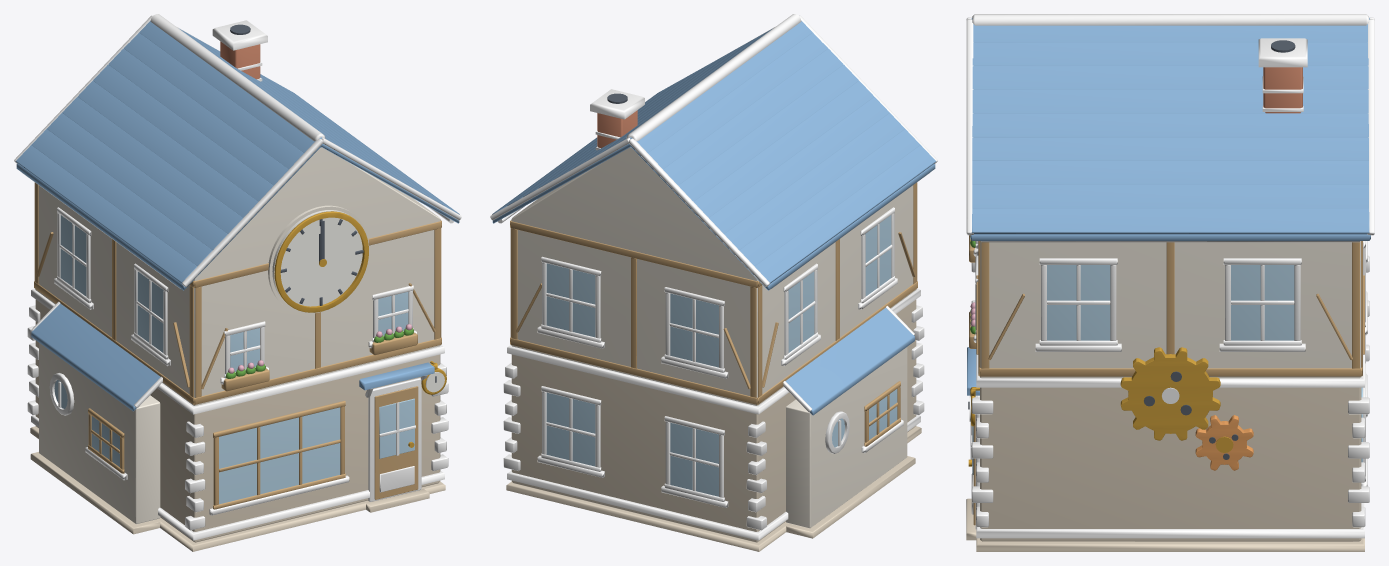
Rendered from works_clock.glb.
The picture shows the model from 3 angles, left to right: view 1: azimuth 30°, elevation 25°; view 2: azimuth 150°, elevation 25°; view 3: azimuth 270°, elevation 25°; orthographic projection. The views are drawn at different scales.
Visible parts, largest first — view 1: works_clock_structure; view 2: works_clock_structure; view 3: works_clock_structure, gear_big, gear_small.
Boxes of the visible parts, <box> form: works_clock_structure: <box>14,14,461,551</box>; works_clock_structure: <box>490,14,937,551</box>; works_clock_structure: <box>966,14,1374,551</box>; gear_big: <box>1120,347,1220,440</box>; gear_small: <box>1195,415,1253,470</box>.
Bounding box in the file's own units: 5.92 × 7.51 × 6.
